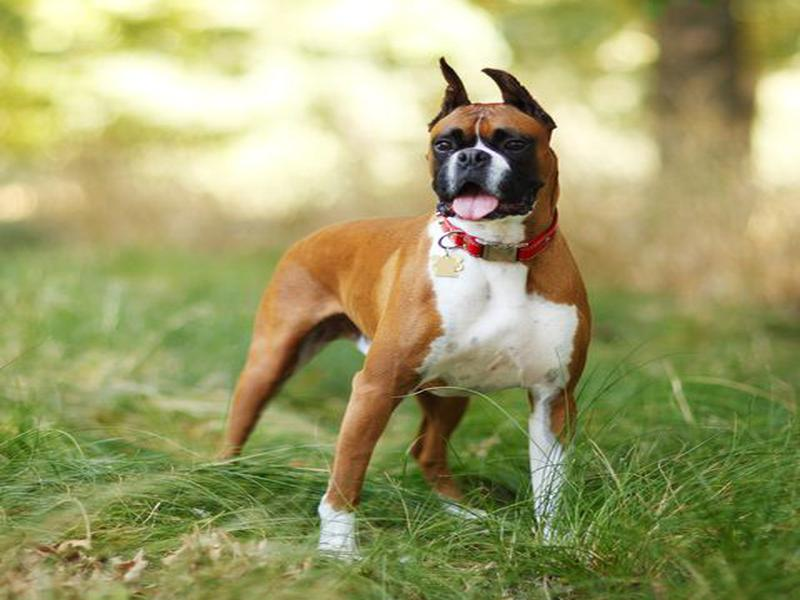dog_stand: (214, 54, 597, 574)
